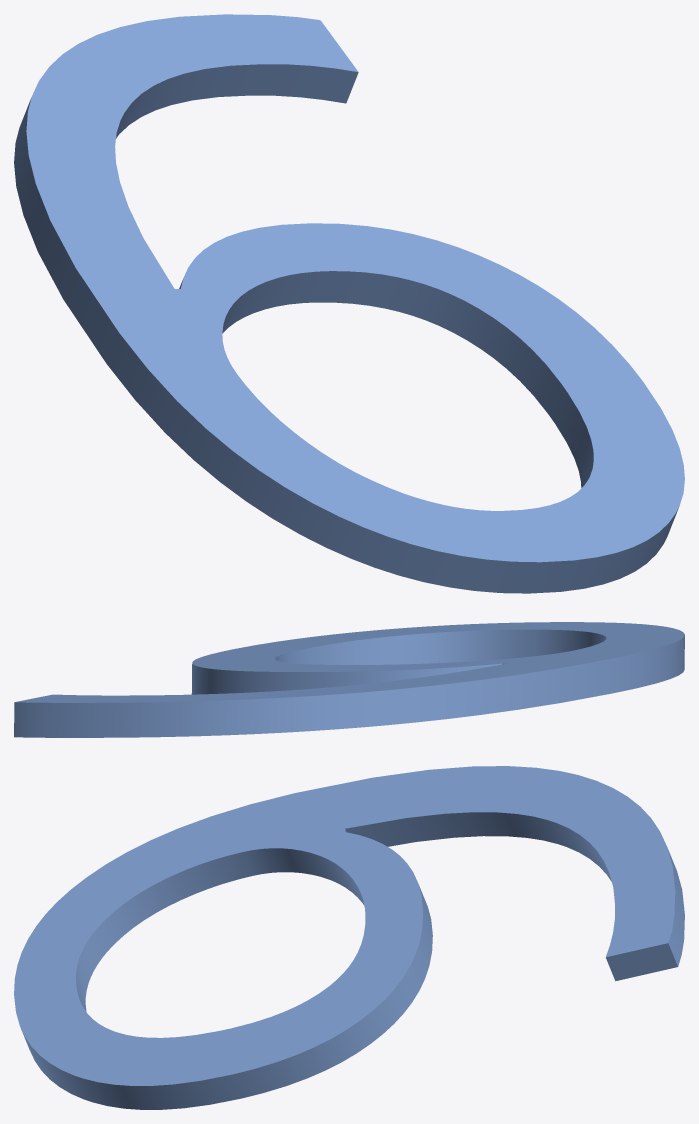
Rendered from New_Number_6.gltf.
3 views of the same model, one above another, from view 1: azimuth 30°, elevation 25°; view 2: azimuth 150°, elevation 25°; view 3: azimuth 270°, elevation 25° (orthographic). The views are drawn at different scales.
Parts seen in each view (by area): view 1: Part 735; view 2: Part 735; view 3: Part 735.
Part boxes in pixels (x1,y1,x2,y2): Part 735: [14, 14, 684, 593]; Part 735: [14, 622, 684, 737]; Part 735: [14, 766, 684, 1109].
Size of the model in its own units: 0.00352 by 0.00196 by 0.00554.
